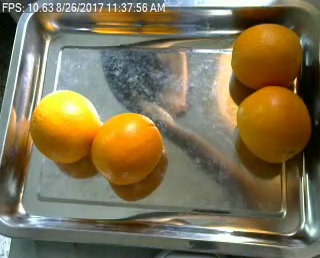Orange: (236, 85, 311, 164), (30, 89, 100, 164), (91, 112, 163, 184), (231, 23, 303, 92)
